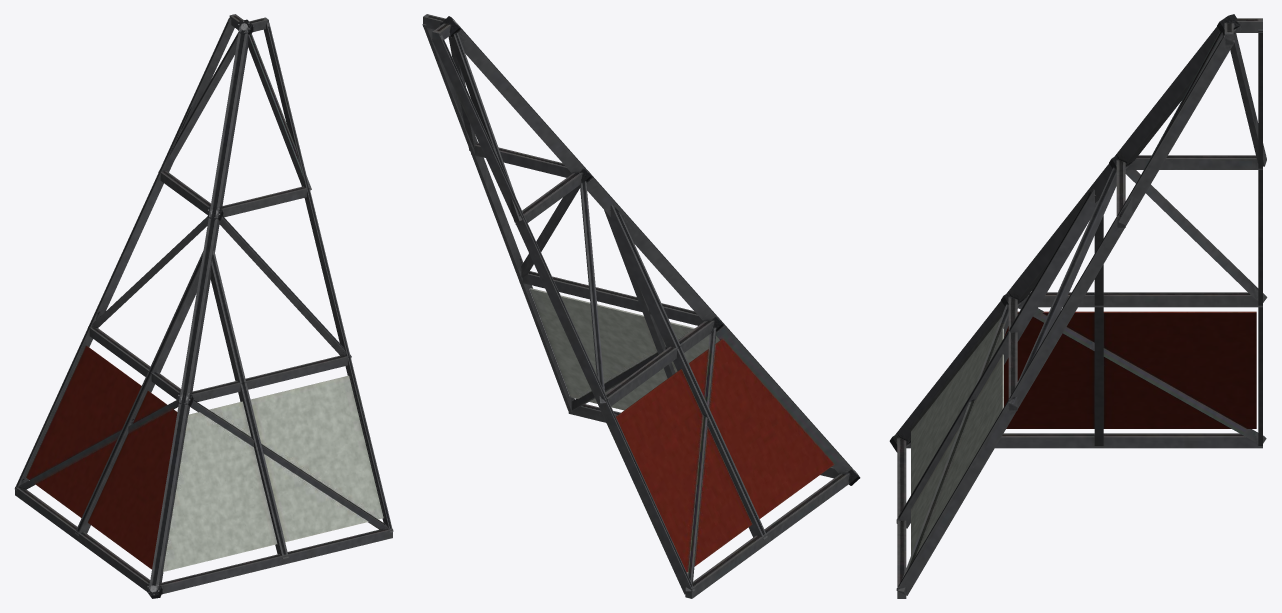
Rendered from dome_slope_hip.glb.
The picture shows the model from 3 angles, left to right: view 1: azimuth 30°, elevation 25°; view 2: azimuth 150°, elevation 25°; view 3: azimuth 270°, elevation 25°; orthographic projection. The views are drawn at different scales.
Visible parts, largest first — view 1: dome_slope_hip; view 2: dome_slope_hip; view 3: dome_slope_hip.
Boxes of the visible parts, x1=… form: dome_slope_hip: x1=14, y1=14, x2=393, y2=598; dome_slope_hip: x1=422, y1=14, x2=860, y2=598; dome_slope_hip: x1=889, y1=14, x2=1267, y2=598.
Size of the model in its own units: 9.24 by 15.53 by 9.24.
Materials: 1 (1 with a texture image).
